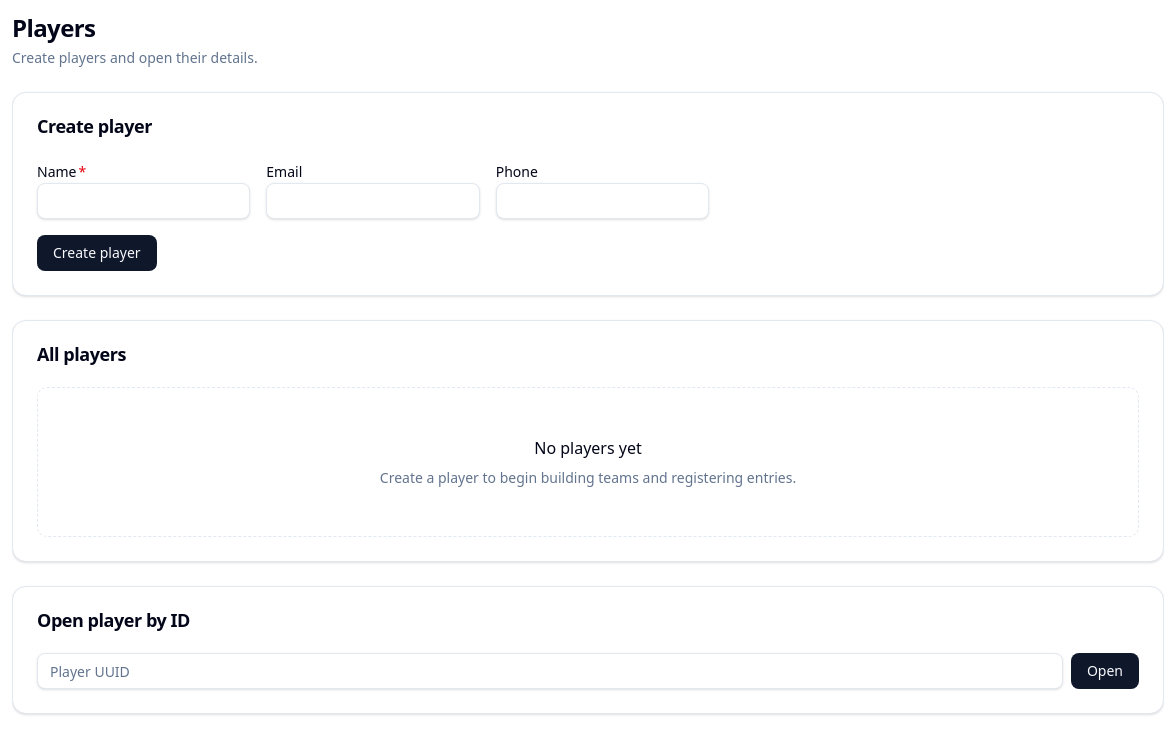
it: PlayersPage collection list › shows the newly created player after creation (server-backed refresh)
The image size is (1164, 732).
Expected: the text "No players yet" is shown, [534,436,642,460]
Type "Newcomer" into the field labelled "Name*" at (144, 201), box [37,183,250,219]
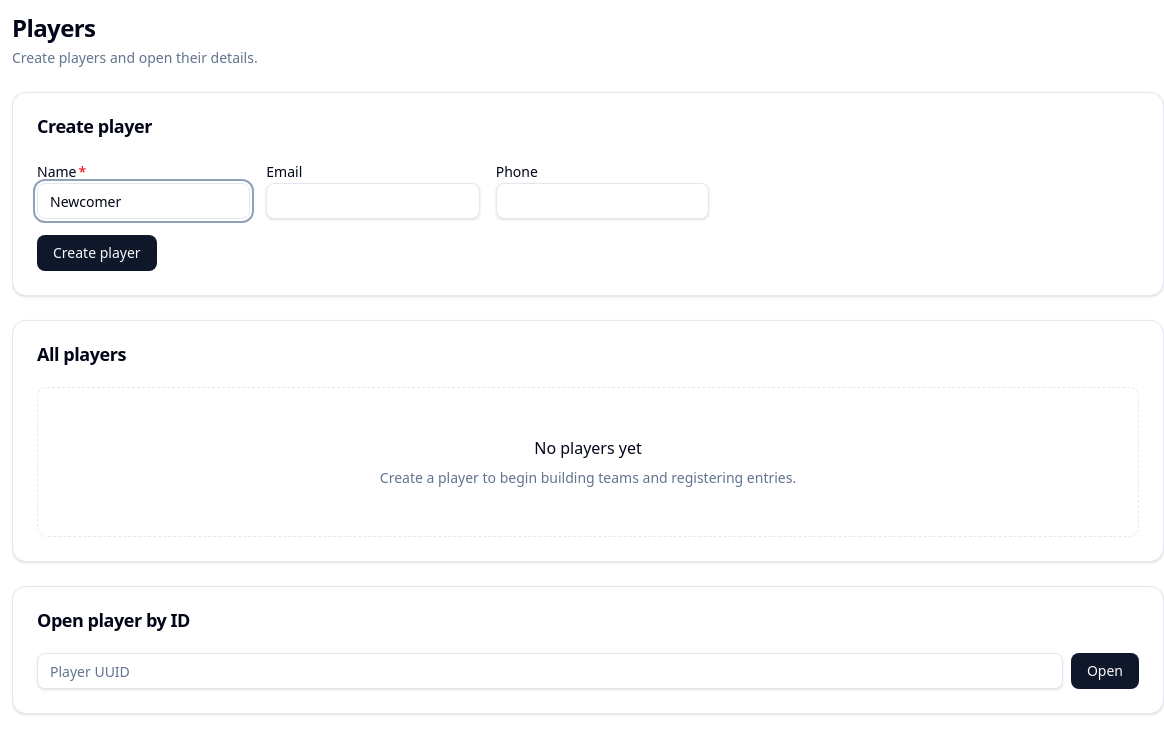
Click the button "Create player" at (97, 253), box [37,235,157,271]
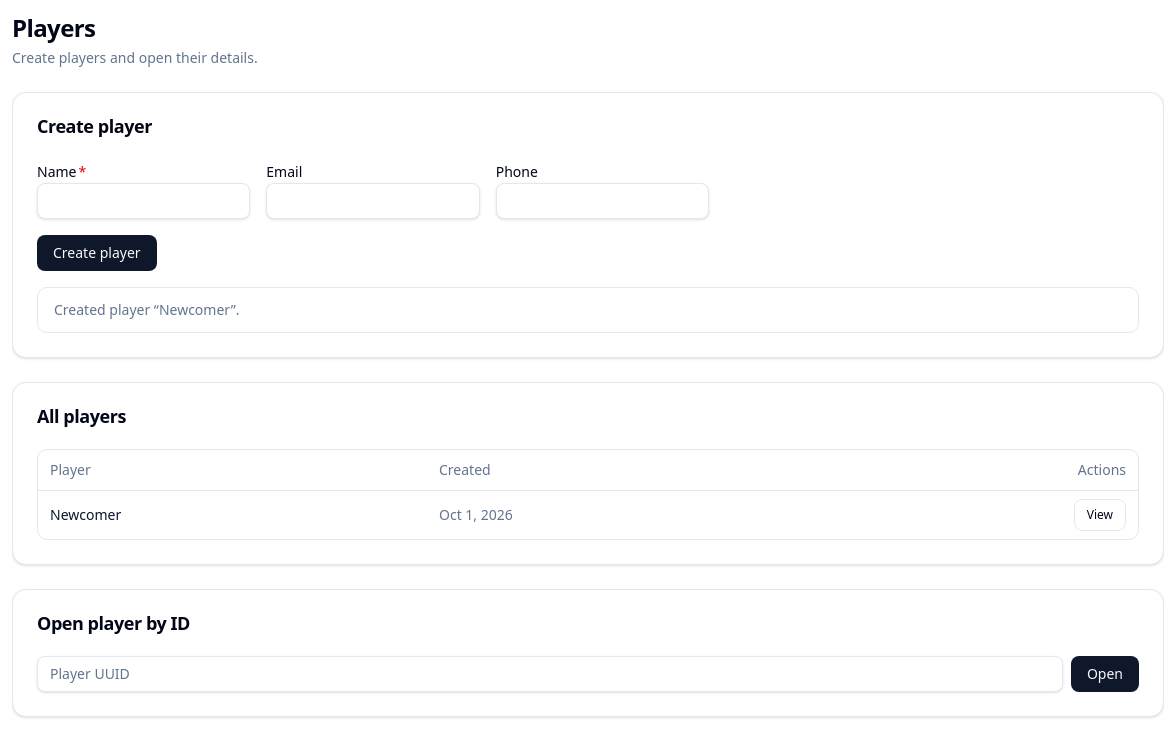
Expected: the link "Newcomer" is shown, [50,504,121,524]
